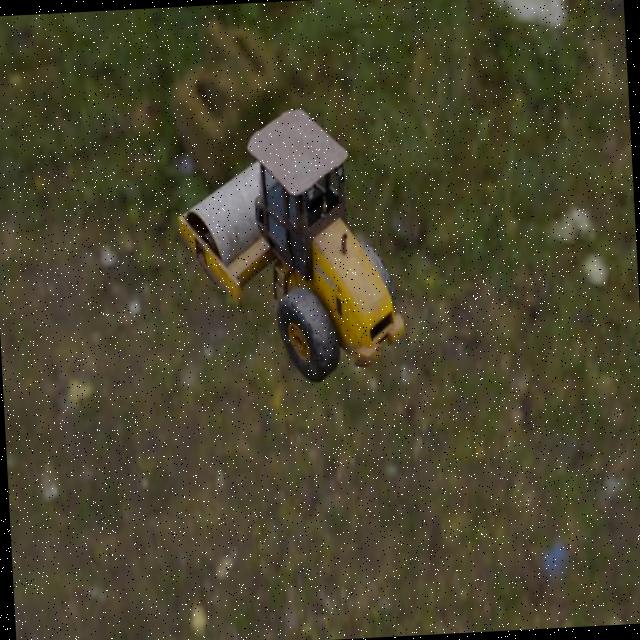Roller: (171, 102, 407, 390)
